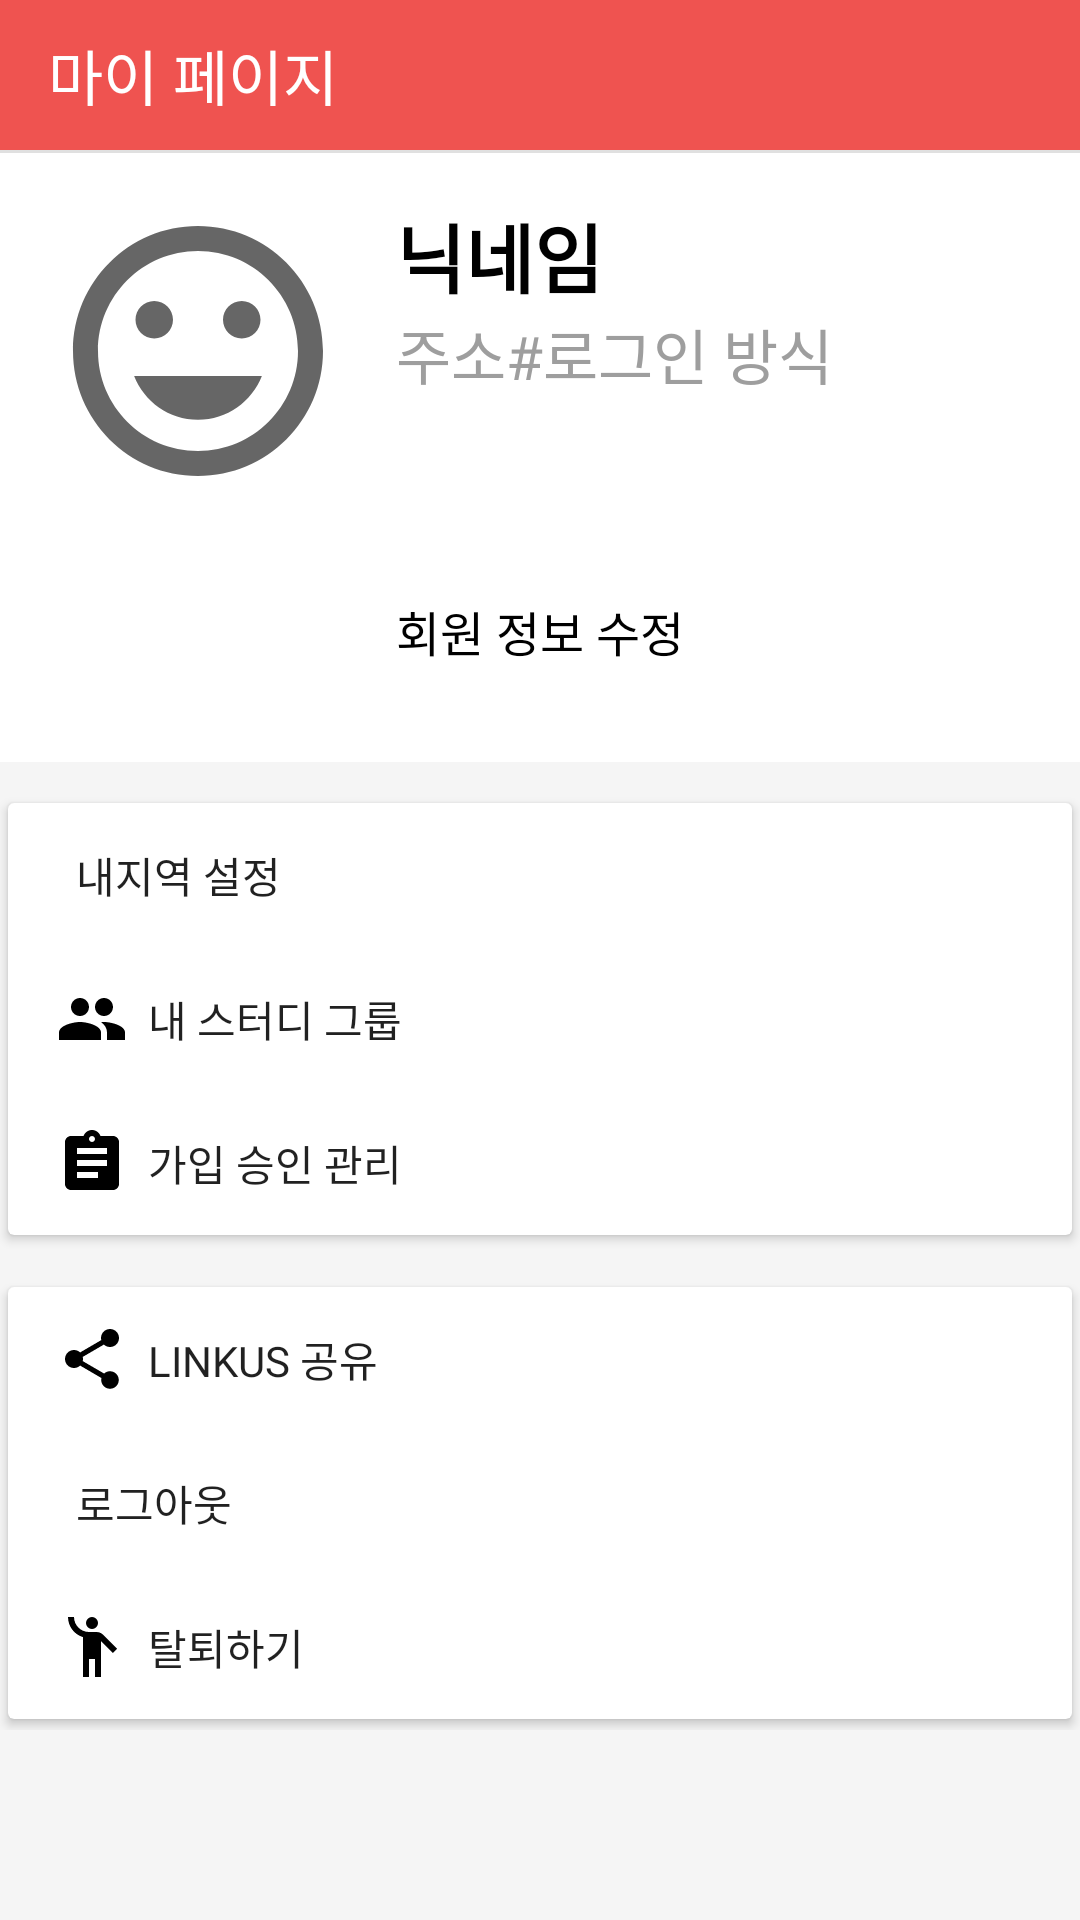

Named icons in this screenshot (1080px x 1920px) and their bounding boxes, [x1,y1,x2,y2]:
profile picture: [73,226,323,476]
